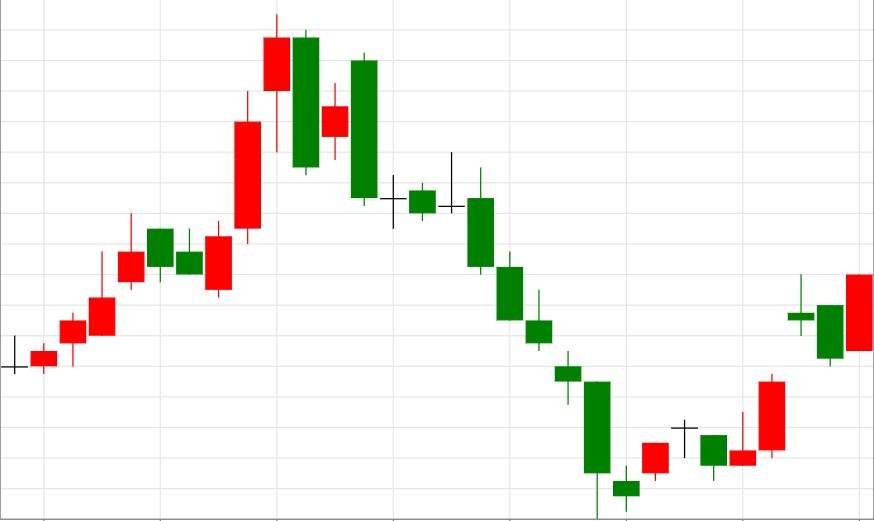morning_star_rise: (438, 151, 669, 519)
